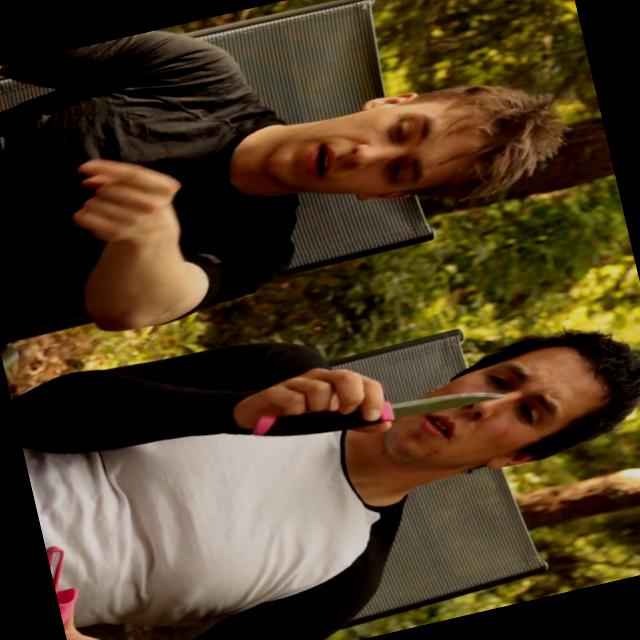knife: (232, 337, 522, 463)
